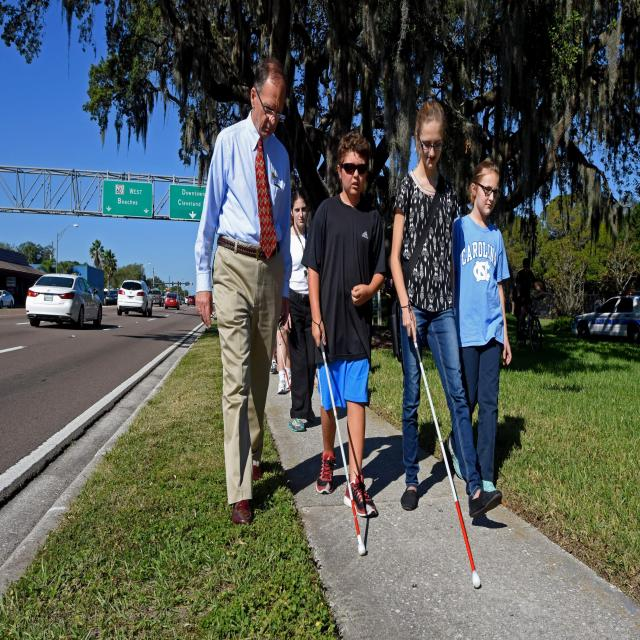body: (388, 99, 502, 519), (194, 56, 296, 524), (251, 386, 529, 530), (300, 128, 390, 558), (446, 158, 514, 500), (281, 187, 317, 432), (516, 257, 544, 337), (271, 324, 292, 394)
